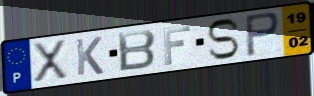B: (116, 28, 158, 74)
F: (161, 24, 193, 67)
K: (74, 35, 106, 77)
P: (244, 10, 283, 58)
S: (205, 17, 242, 61)
X: (31, 38, 70, 84)
